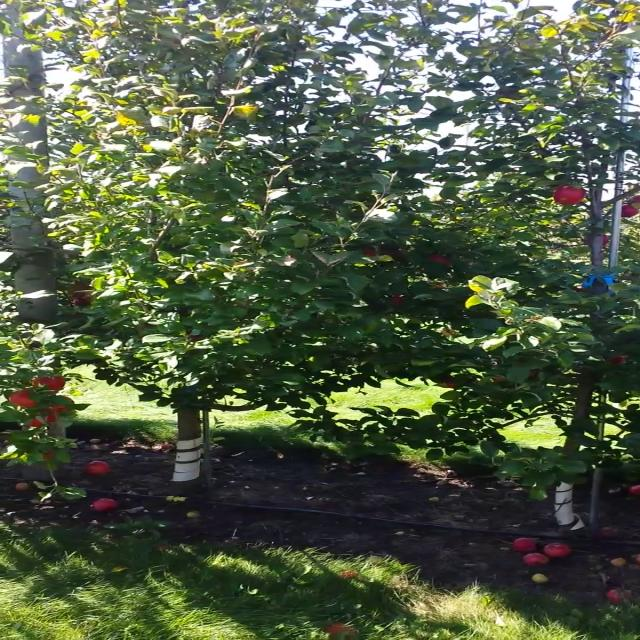apple: (553, 184, 586, 206), (31, 374, 66, 392), (27, 408, 56, 429), (8, 390, 39, 408), (49, 395, 75, 415), (428, 253, 452, 265), (69, 294, 91, 306), (618, 205, 639, 217), (609, 354, 630, 364), (363, 246, 377, 256), (42, 450, 56, 460), (391, 295, 403, 305), (442, 379, 456, 387), (601, 234, 610, 246), (633, 194, 639, 202)
